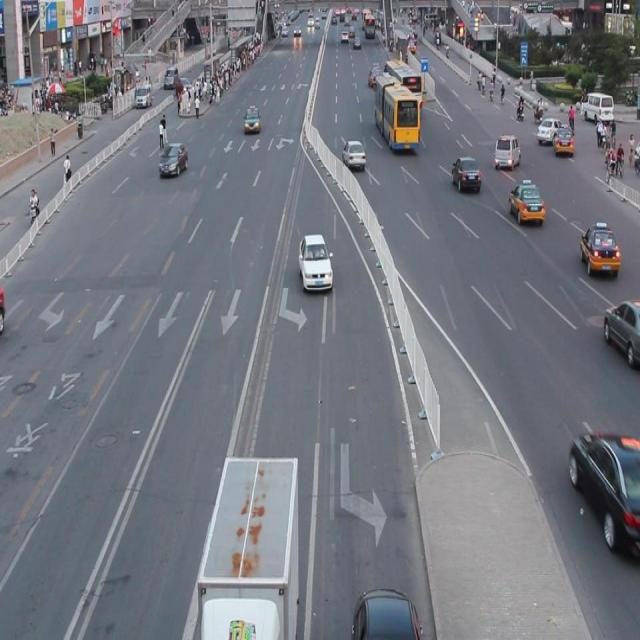bus: (197, 451, 300, 640)
car: (568, 429, 640, 552), (352, 584, 421, 640), (602, 299, 640, 366), (298, 233, 333, 292), (579, 224, 618, 273), (508, 181, 544, 223), (450, 156, 480, 192)
